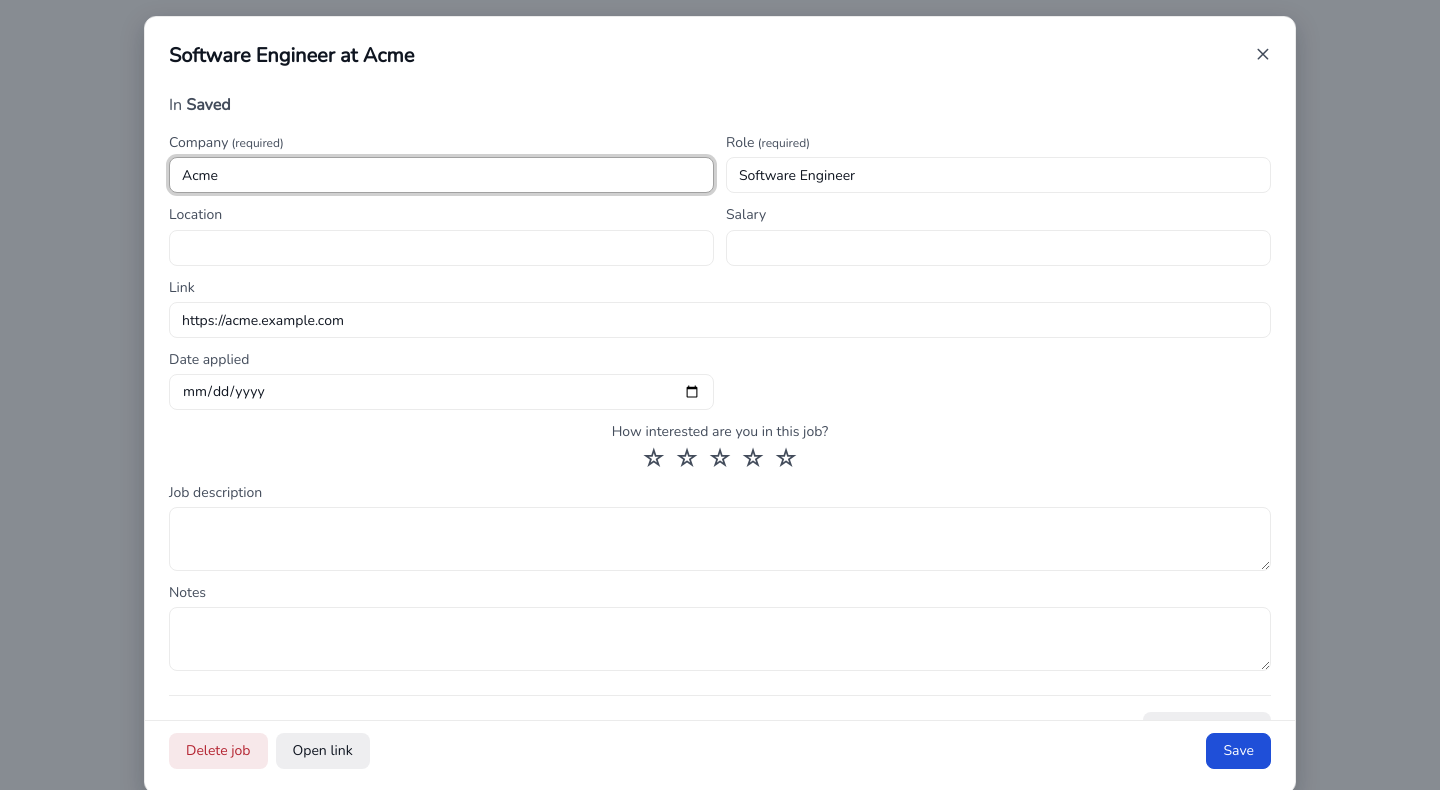
Test case: JobDetails › shows why the link couldn't be opened
Click the button "Open link": (323, 751) x1=276 y1=733 x2=370 y2=769
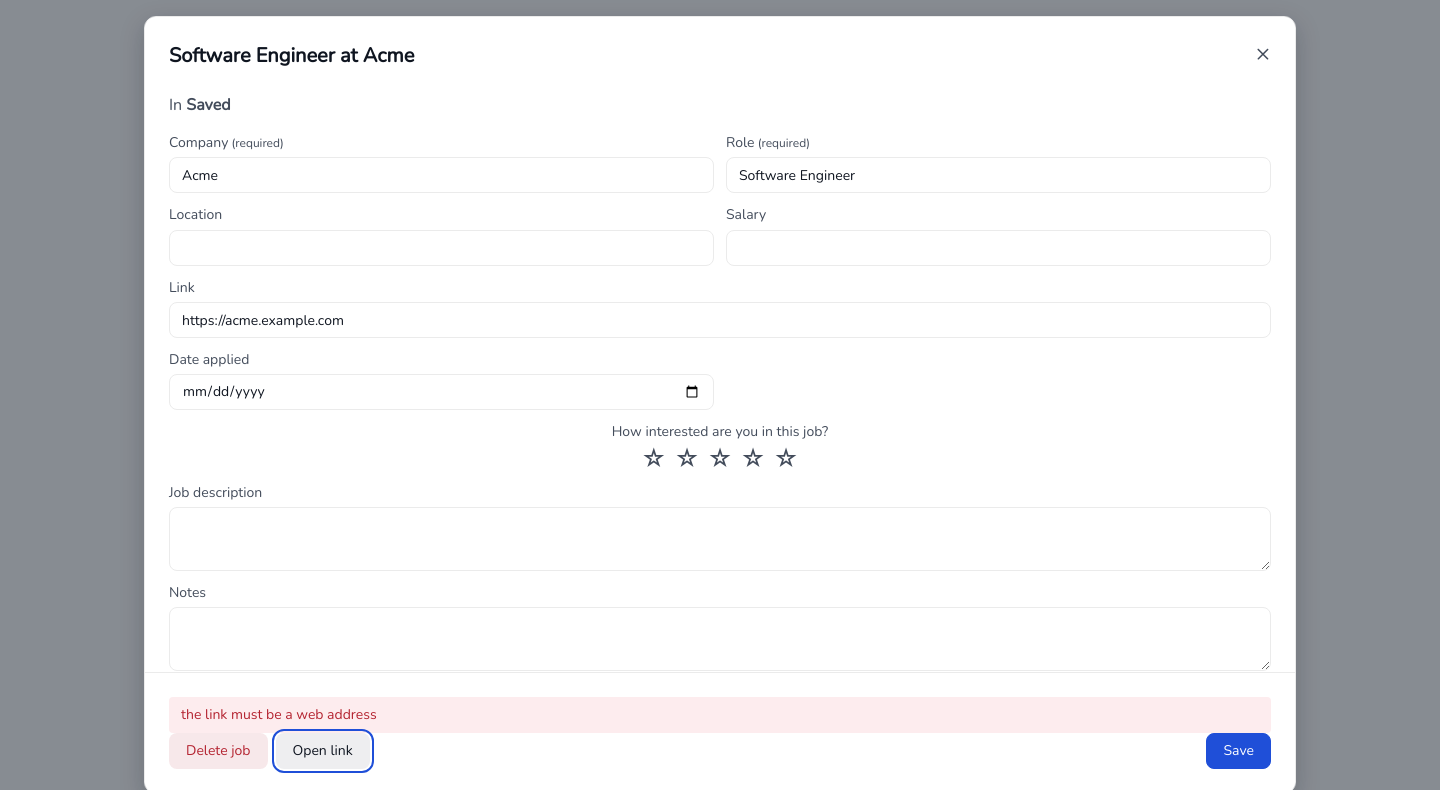
Expected: the message reads "the link must be a web address", x1=181 y1=705 x2=377 y2=724
